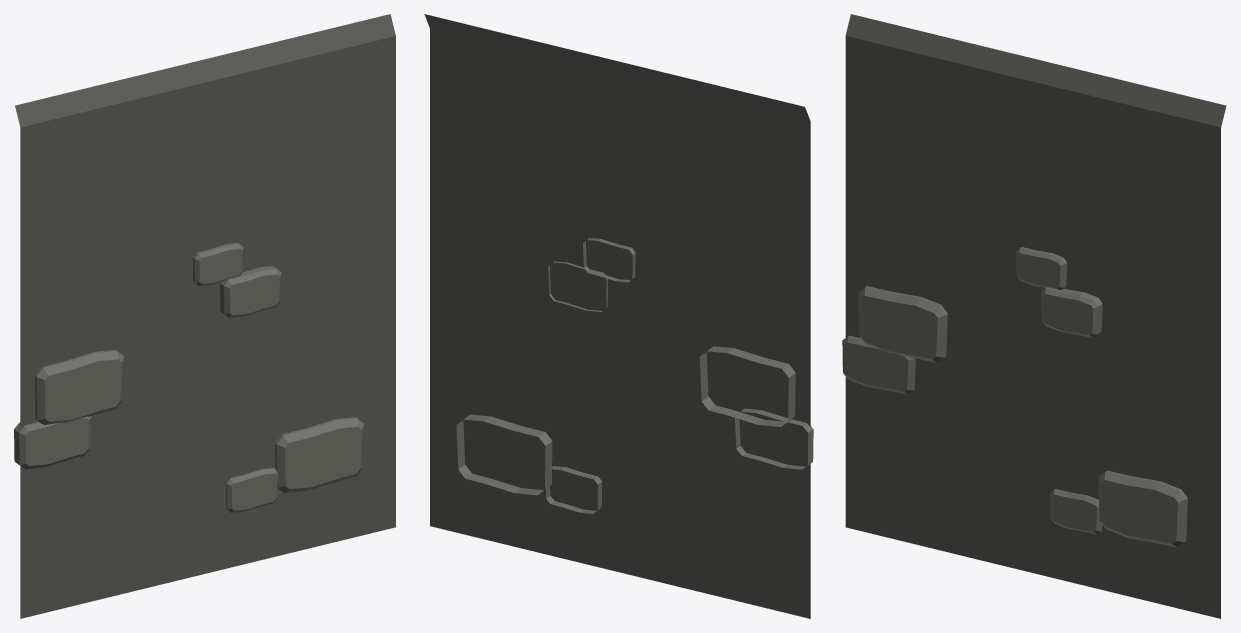
File: Dungeon_Wall_Var2.glb
The picture shows the model from 3 angles, left to right: view 1: azimuth 30°, elevation 25°; view 2: azimuth 150°, elevation 25°; view 3: azimuth 330°, elevation 25°; orthographic projection.
Visible parts, largest first — view 1: Dungeon_Wall_Var2; view 2: Dungeon_Wall_Var2; view 3: Dungeon_Wall_Var2.
Part boxes in pixels (x1,y1,x2,y2): Dungeon_Wall_Var2: [14, 14, 395, 618]; Dungeon_Wall_Var2: [424, 14, 813, 618]; Dungeon_Wall_Var2: [842, 14, 1226, 618].
Bounding box in the file's own units: 4.02 × 5.18 × 0.2374.
1 material, 1 textured.
